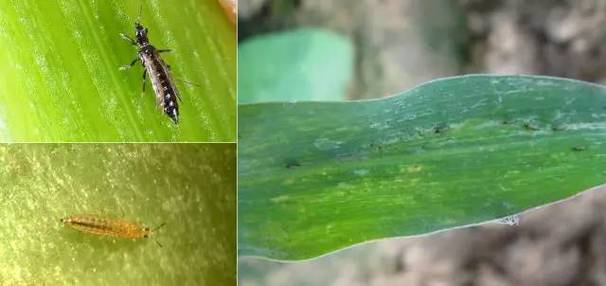Thripidae: (118, 1, 200, 125)
